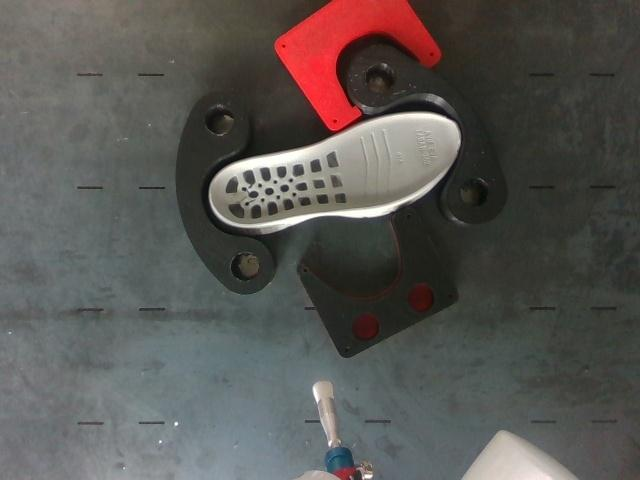shoes: (209, 114, 459, 225)
